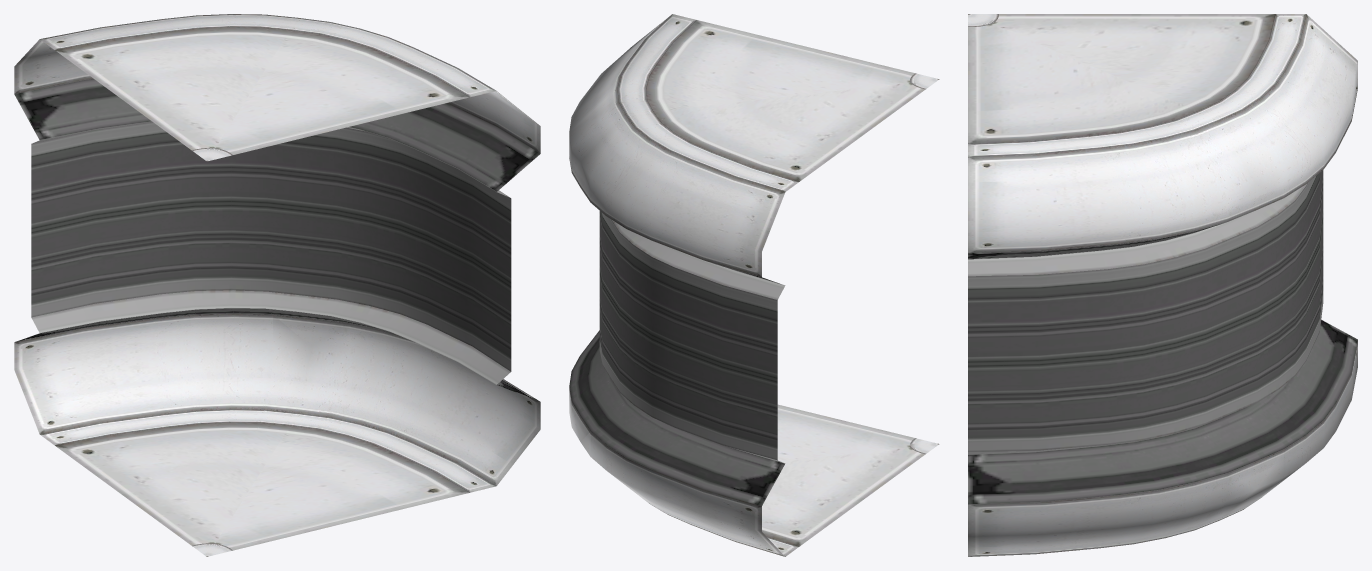
The model's file is CeilingBrace_Cornercapped.FBX.
3 renders of one model, left to right at view 1: azimuth 30°, elevation 25°; view 2: azimuth 150°, elevation 25°; view 3: azimuth 270°, elevation 25°, orthographic. The views are drawn at different scales.
Parts seen in each view (by area): view 1: CeilingBrace_Cornercapped; view 2: CeilingBrace_Cornercapped; view 3: CeilingBrace_Cornercapped.
Boxes of the visible parts, bbox=[...] form: CeilingBrace_Cornercapped: bbox=[14, 14, 540, 556]; CeilingBrace_Cornercapped: bbox=[569, 14, 939, 556]; CeilingBrace_Cornercapped: bbox=[968, 14, 1357, 556].
Size of the model in its own units: 1.15 by 1.3 by 1.15.
